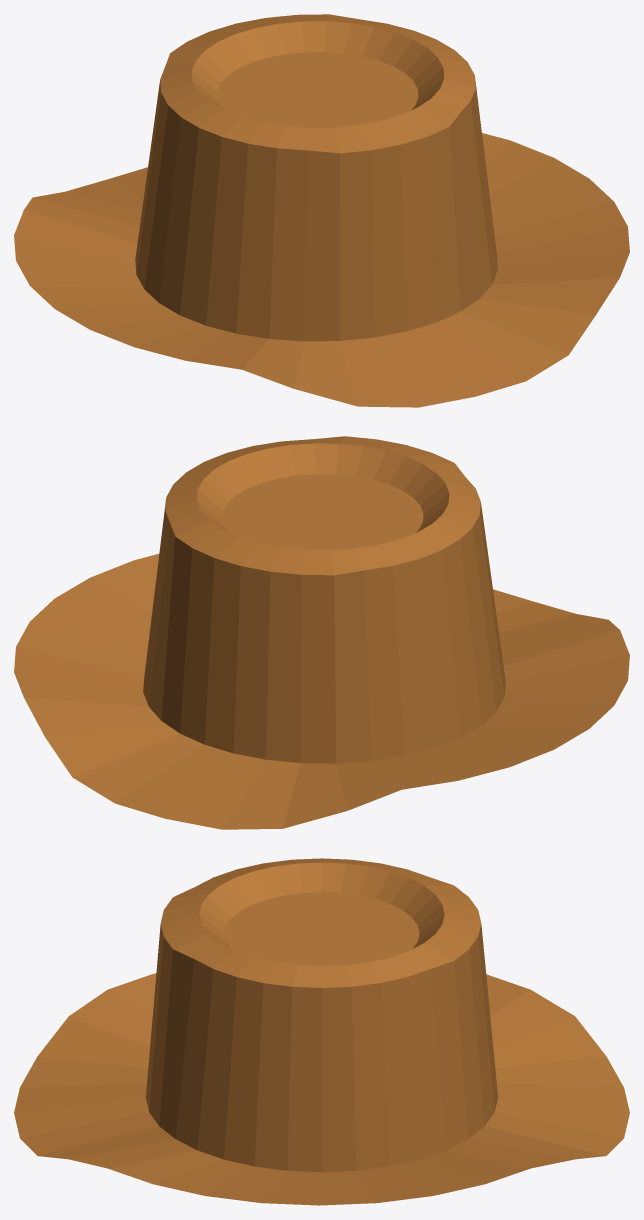
Rendered from CowboyHat.fbx.
The picture shows the model from 3 angles, top to bottom: view 1: azimuth 30°, elevation 25°; view 2: azimuth 150°, elevation 25°; view 3: azimuth 270°, elevation 25°; orthographic projection. The views are drawn at different scales.
Visible parts, largest first — view 1: Cylinder; view 2: Cylinder; view 3: Cylinder.
Boxes of the visible parts, x1,y1,x2,y2 form: Cylinder: [14, 14, 629, 407]; Cylinder: [14, 436, 629, 829]; Cylinder: [14, 858, 629, 1205].
Size of the model in its own units: 340 by 127 by 350.
